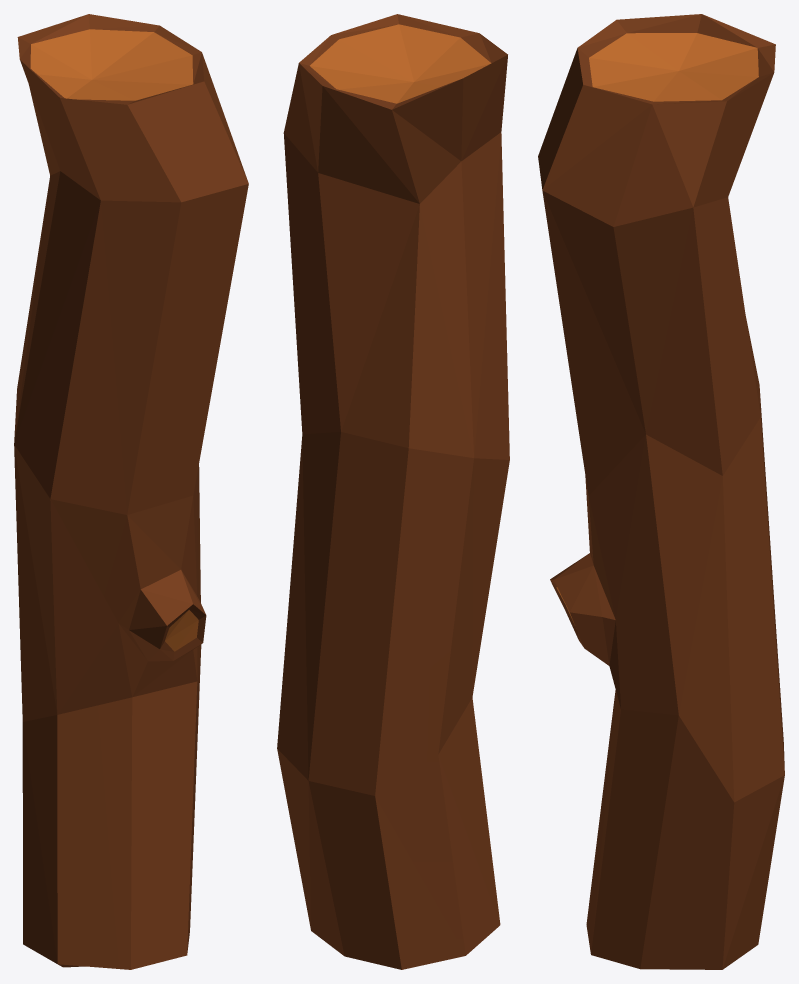
Rendered from Log00.fbx.
The picture shows the model from 3 angles, left to right: view 1: azimuth 30°, elevation 25°; view 2: azimuth 150°, elevation 25°; view 3: azimuth 270°, elevation 25°; orthographic projection.
Parts seen in each view (by area): view 1: log00; view 2: log00; view 3: log00.
Boxes of the visible parts, left/top/right/bottom form: log00: left=14, top=14, right=248, bottom=969; log00: left=277, top=14, right=509, bottom=969; log00: left=538, top=14, right=784, bottom=969.
Bounding box in the file's own units: 0.9207 × 4.05 × 1.02.
1 material, 1 textured.
